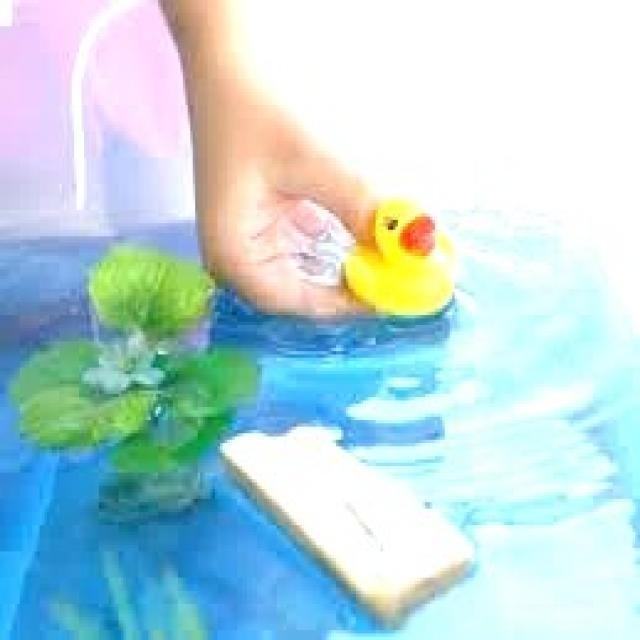rubber-duck: (342, 198, 452, 314)
